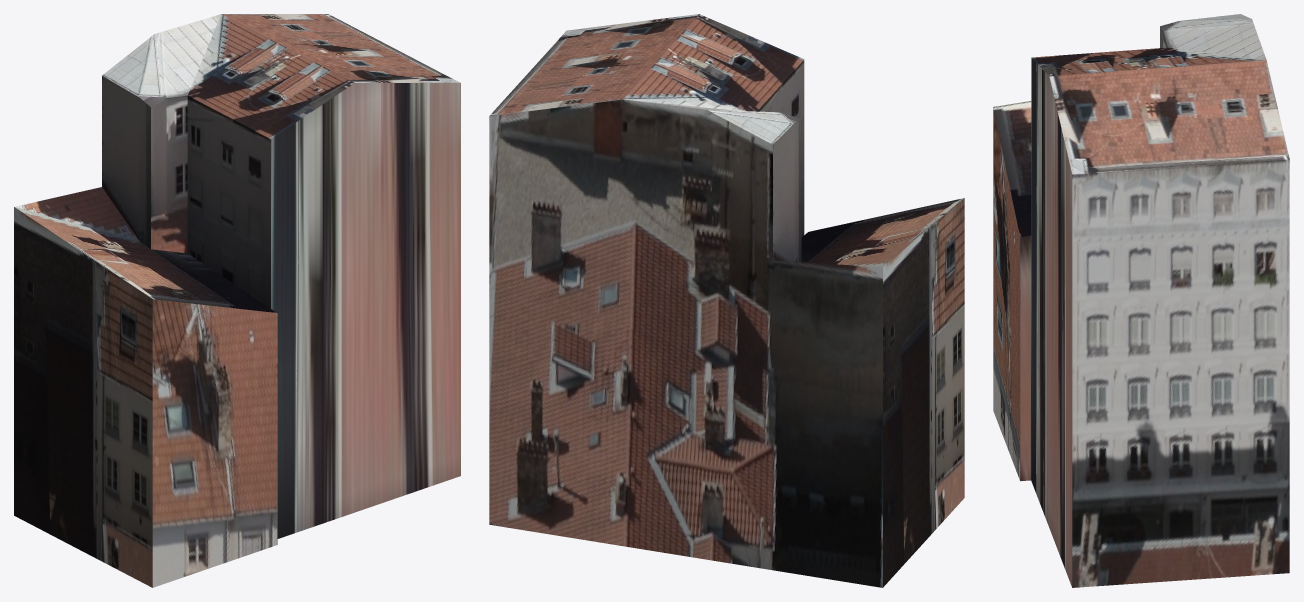
The picture shows the model from 3 angles, left to right: view 1: azimuth 30°, elevation 25°; view 2: azimuth 150°, elevation 25°; view 3: azimuth 270°, elevation 25°; orthographic projection. The views are drawn at different scales.
Visible parts, largest first — view 1: Z_UP; view 2: Z_UP; view 3: Z_UP.
Part boxes in pixels (box(x1,y1,x2,y2)): Z_UP: box(14, 14, 460, 587); Z_UP: box(489, 14, 964, 587); Z_UP: box(993, 14, 1289, 587).
Size of the model in its own units: 23.86 by 26.3 by 15.52.
Materials: 2 (1 with a texture image).
